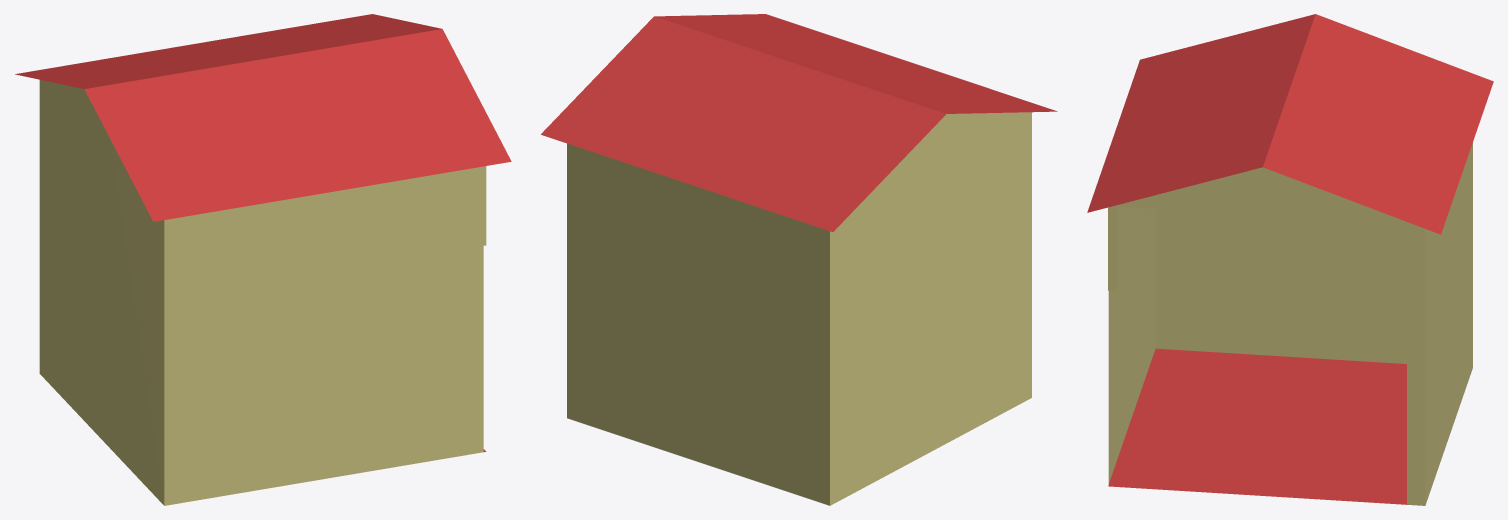
3 renders of one model, left to right at view 1: azimuth 30°, elevation 25°; view 2: azimuth 150°, elevation 25°; view 3: azimuth 270°, elevation 25°, orthographic. The views are drawn at different scales.
Size of the model in its own units: 11.19 by 10.99 by 10.03.
